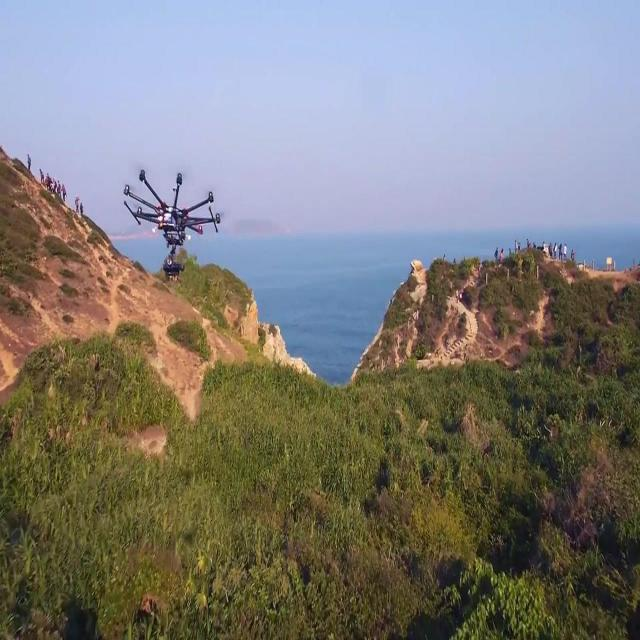UAV: (124, 169, 220, 275)
